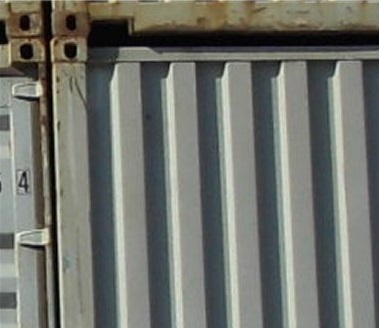container_no_door: (56, 37, 373, 325)
